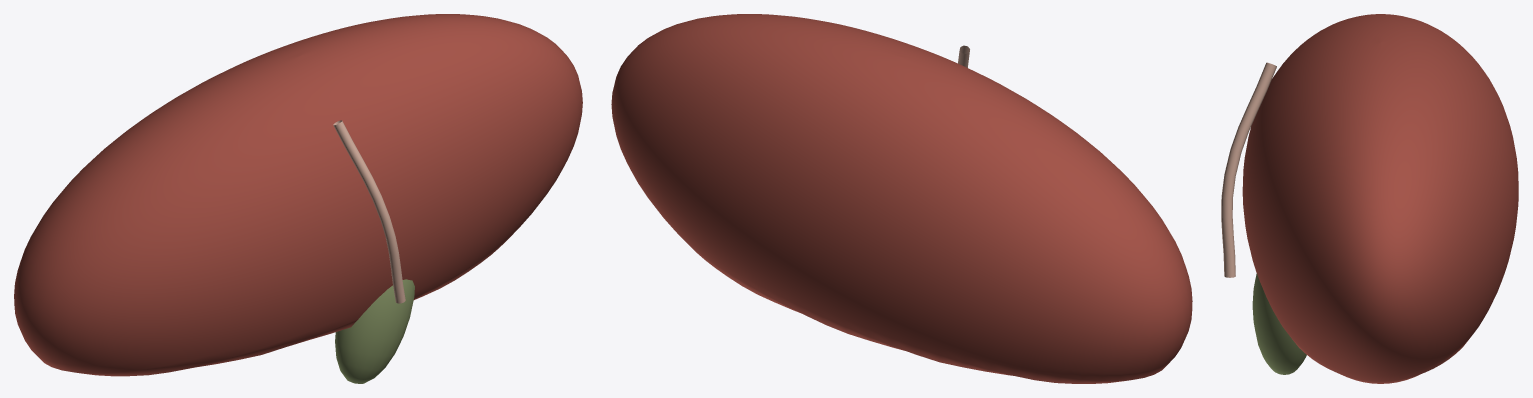
File: liver.glb
3 views of the same model, side by side, from view 1: azimuth 30°, elevation 25°; view 2: azimuth 150°, elevation 25°; view 3: azimuth 270°, elevation 25° (orthographic). The views are drawn at different scales.
Visible parts, largest first — view 1: Liver; view 2: Liver; view 3: Liver.
Boxes of the visible parts, x1,y1,x2,y2 form: Liver: (14, 14, 582, 383); Liver: (611, 14, 1192, 383); Liver: (1221, 14, 1518, 383).
Size of the model in its own units: 2.16 by 1.13 by 0.9285.
